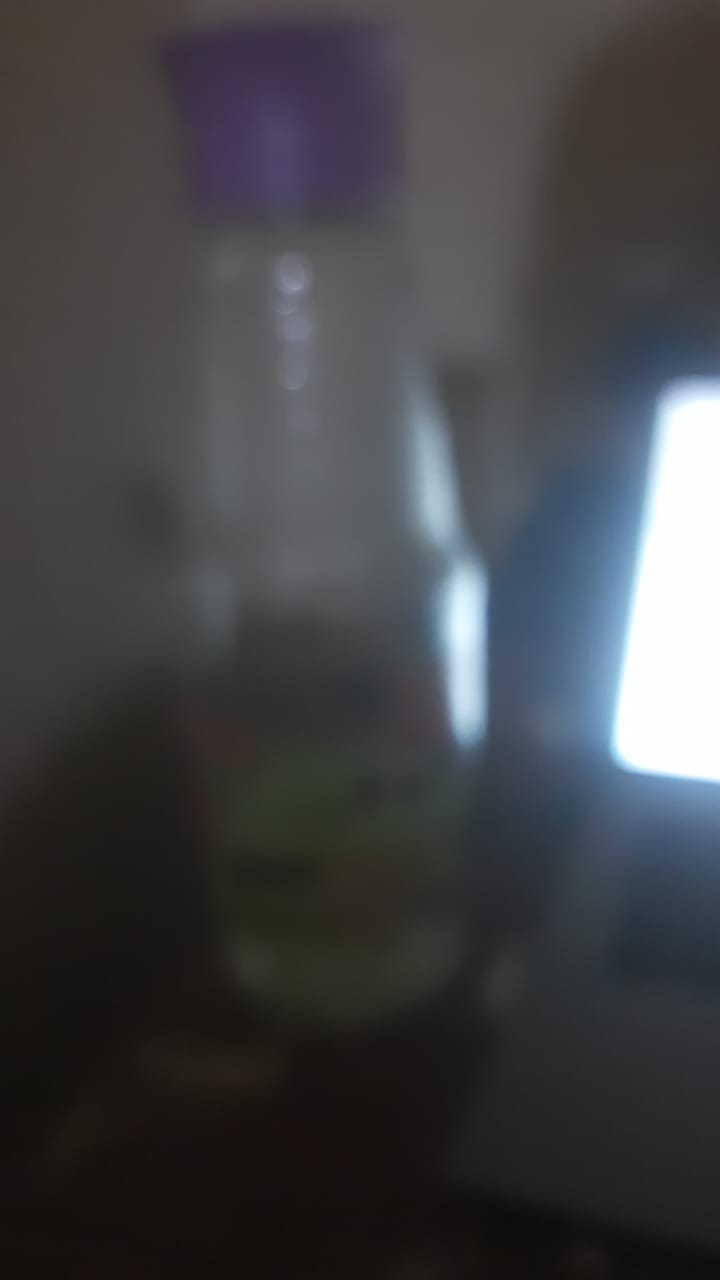bottle: (148, 19, 487, 1022)
